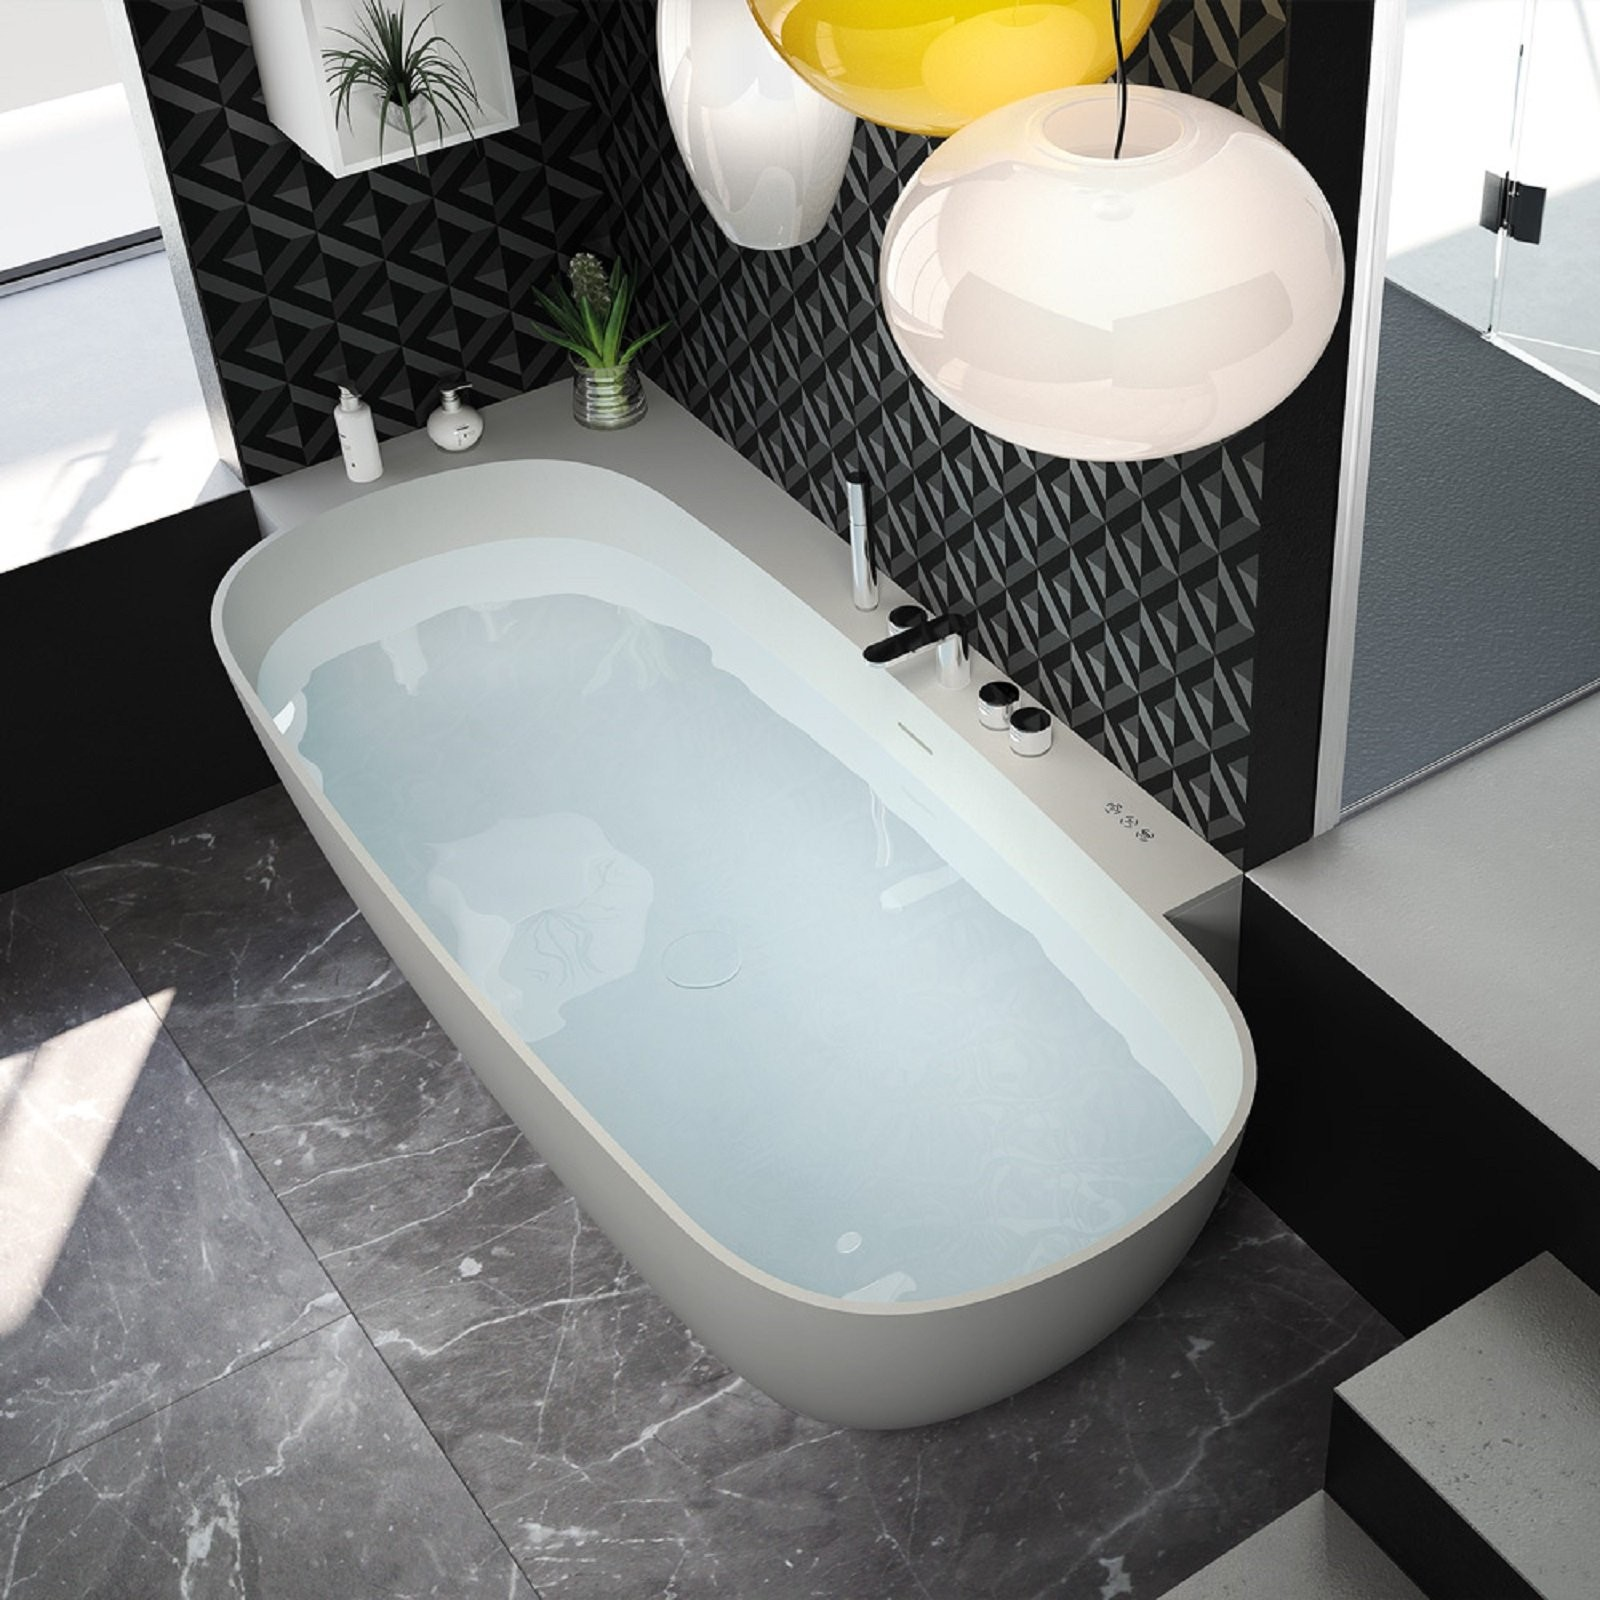bathub: (195, 454, 1281, 1440)
